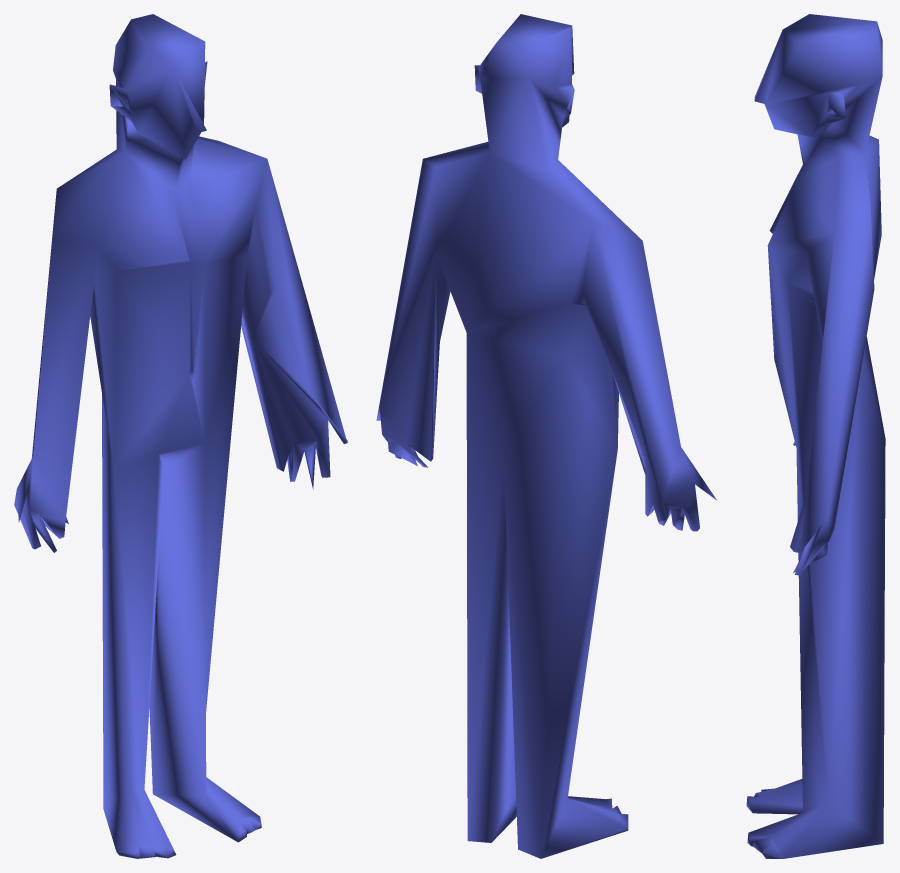
The model's file is model.progressive.glb.
The picture shows the model from 3 angles, left to right: view 1: azimuth 30°, elevation 25°; view 2: azimuth 150°, elevation 25°; view 3: azimuth 270°, elevation 25°; orthographic projection. The views are drawn at different scales.
Parts seen in each view (by area): view 1: material; view 2: material; view 3: material.
Part boxes in pixels (x1,y1,x2,y2): material: [14, 14, 347, 858]; material: [376, 14, 716, 858]; material: [746, 14, 885, 858].
Bounding box in the file's own units: 0.8182 × 1.86 × 0.293.
Materials: 1 (1 with a texture image).
